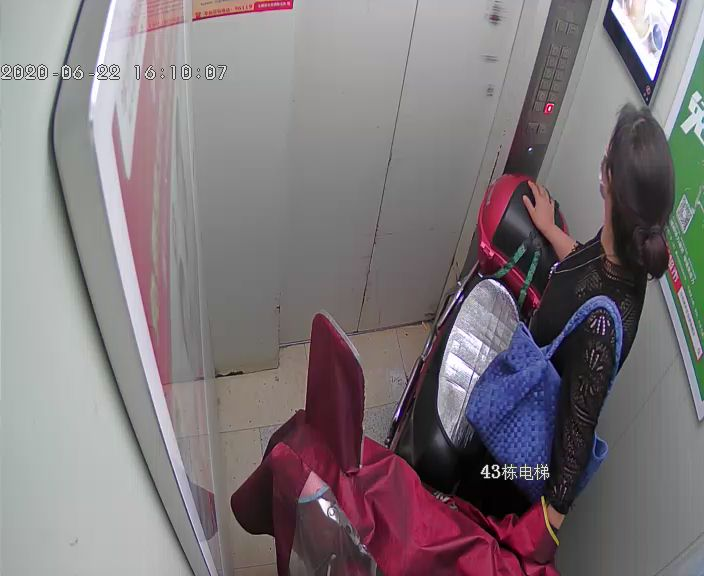Electric-bicycle: (276, 173, 565, 574)
